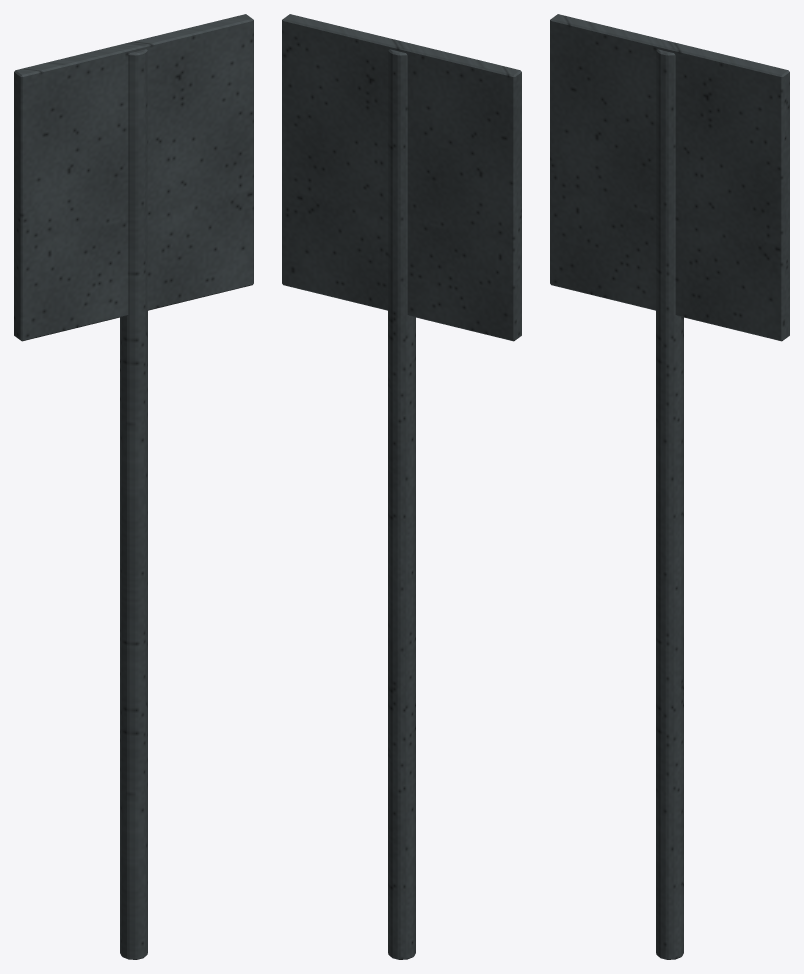
The model's file is PROP-F9099D7F03FB_lod1.glb.
3 views of the same model, side by side, from view 1: azimuth 30°, elevation 25°; view 2: azimuth 150°, elevation 25°; view 3: azimuth 330°, elevation 25° (orthographic).
Parts seen in each view (by area): view 1: sign_plate.002, sign_post.002; view 2: sign_plate.002, sign_post.002; view 3: sign_plate.002, sign_post.002.
Part boxes in pixels (bbox=[...]): sign_plate.002: bbox=[14, 14, 253, 341]; sign_post.002: bbox=[120, 49, 147, 959]; sign_plate.002: bbox=[282, 14, 521, 341]; sign_post.002: bbox=[388, 49, 415, 959]; sign_plate.002: bbox=[550, 14, 789, 341]; sign_post.002: bbox=[656, 49, 683, 959].
Size of the model in its own units: 0.66 by 2.46 by 0.0666.
1 material, 1 textured.
